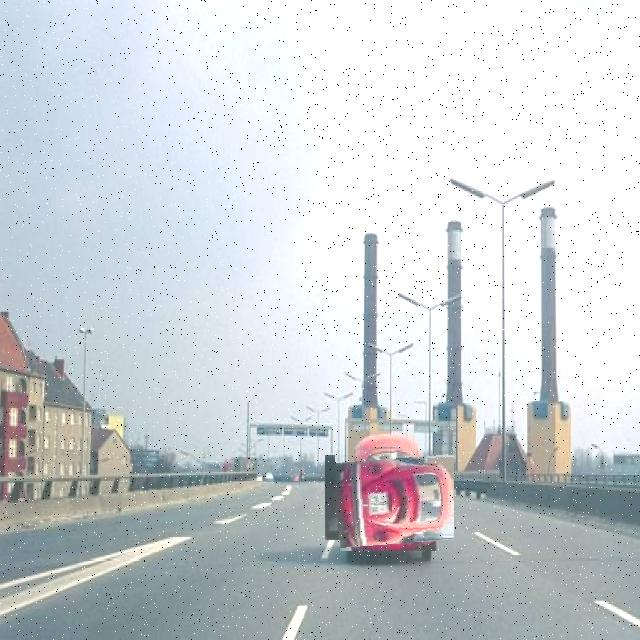car: (336, 445, 444, 552)
